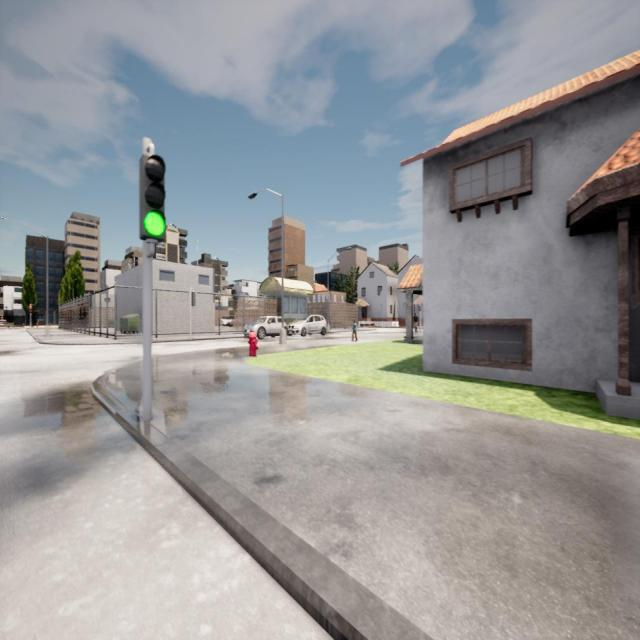Pedestrian: (352, 318, 358, 343), (412, 310, 418, 334)
Vehicle: (245, 316, 288, 339), (288, 314, 327, 336), (220, 315, 236, 327)
traffic_light: (140, 156, 166, 240), (192, 292, 196, 306), (28, 304, 32, 313)
